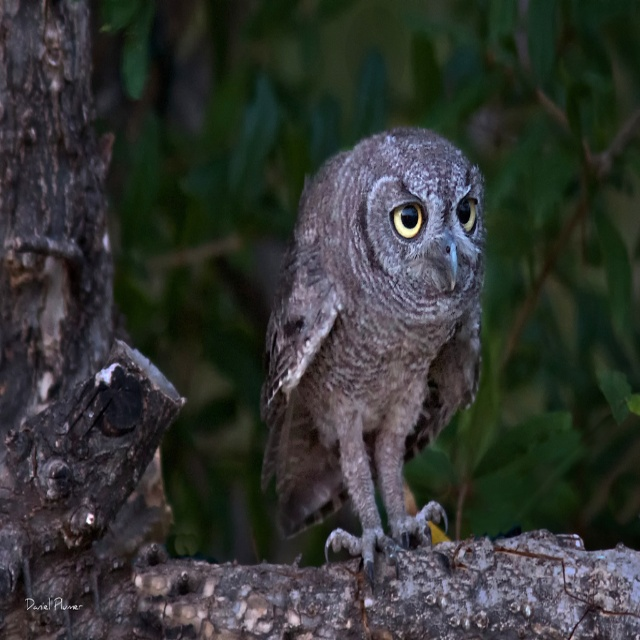Owl: (260, 125, 484, 595)
